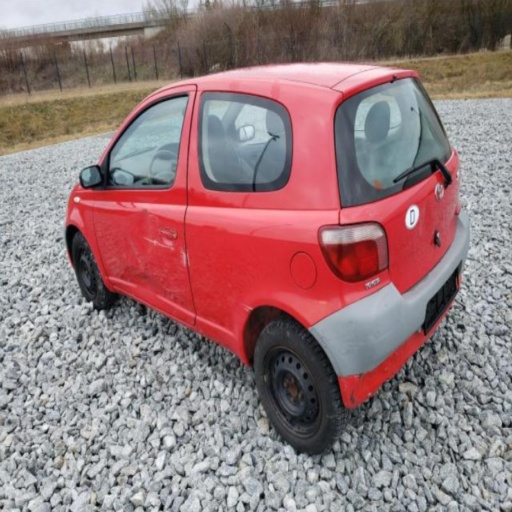dent: (119, 264, 184, 317), (125, 205, 165, 272)
rust: (348, 386, 356, 406), (357, 373, 366, 383)
scratch: (140, 236, 170, 251), (160, 281, 181, 295), (237, 296, 254, 313), (179, 247, 187, 268), (188, 247, 192, 269)
